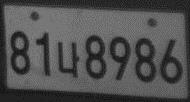1: (35, 31, 52, 77)
6: (158, 38, 184, 84)
8: (8, 29, 31, 76), (134, 37, 157, 83), (84, 35, 107, 79)
9: (108, 35, 131, 80)
나: (57, 40, 80, 79)
